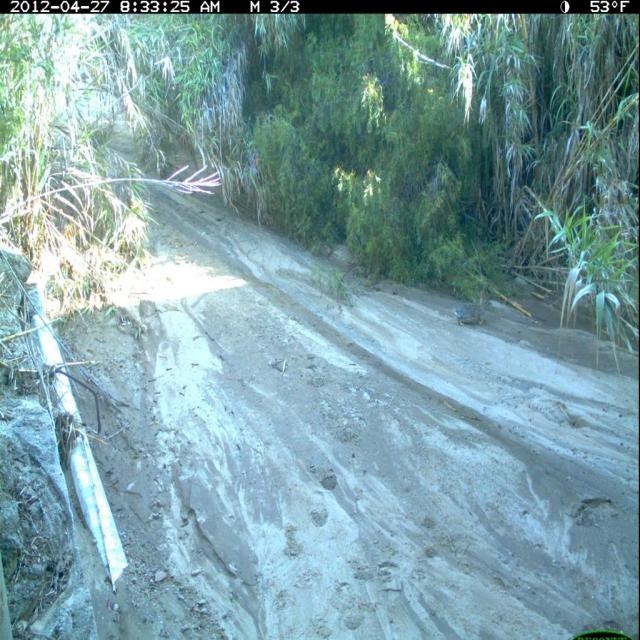rabbit: (451, 285, 494, 331)
